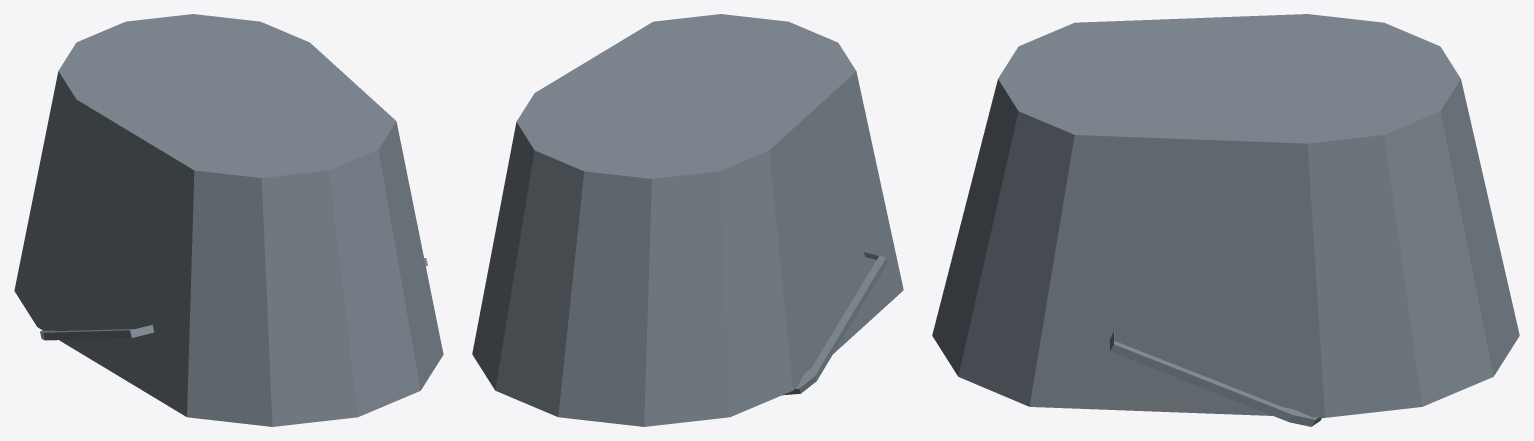
3 renders of one model, left to right at view 1: azimuth 30°, elevation 25°; view 2: azimuth 150°, elevation 25°; view 3: azimuth 270°, elevation 25°, orthographic. The views are drawn at different scales.
Parts seen in each view (by area): view 1: Circle; view 2: Circle; view 3: Circle.
Boxes of the visible parts, box(x1,y1,x2,y2) form: Circle: box(14, 14, 443, 426); Circle: box(472, 14, 903, 426); Circle: box(932, 14, 1519, 426).
Bounding box in the file's own units: 176 × 123 × 95.64.
